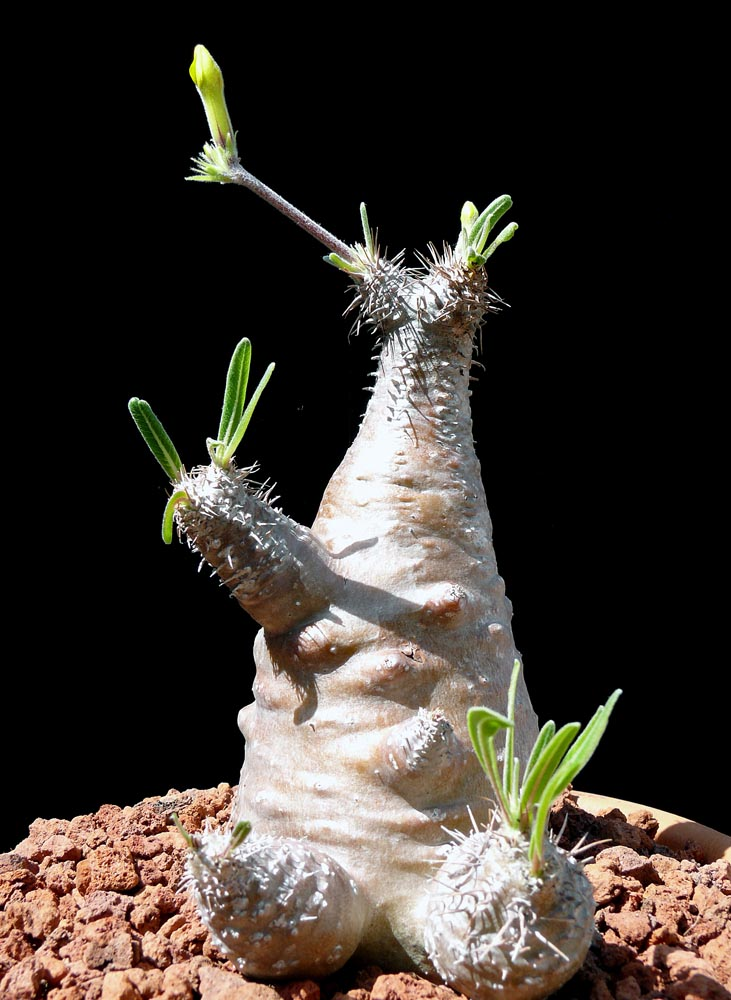Pachypodium rosulatum: (144, 85, 642, 990)
